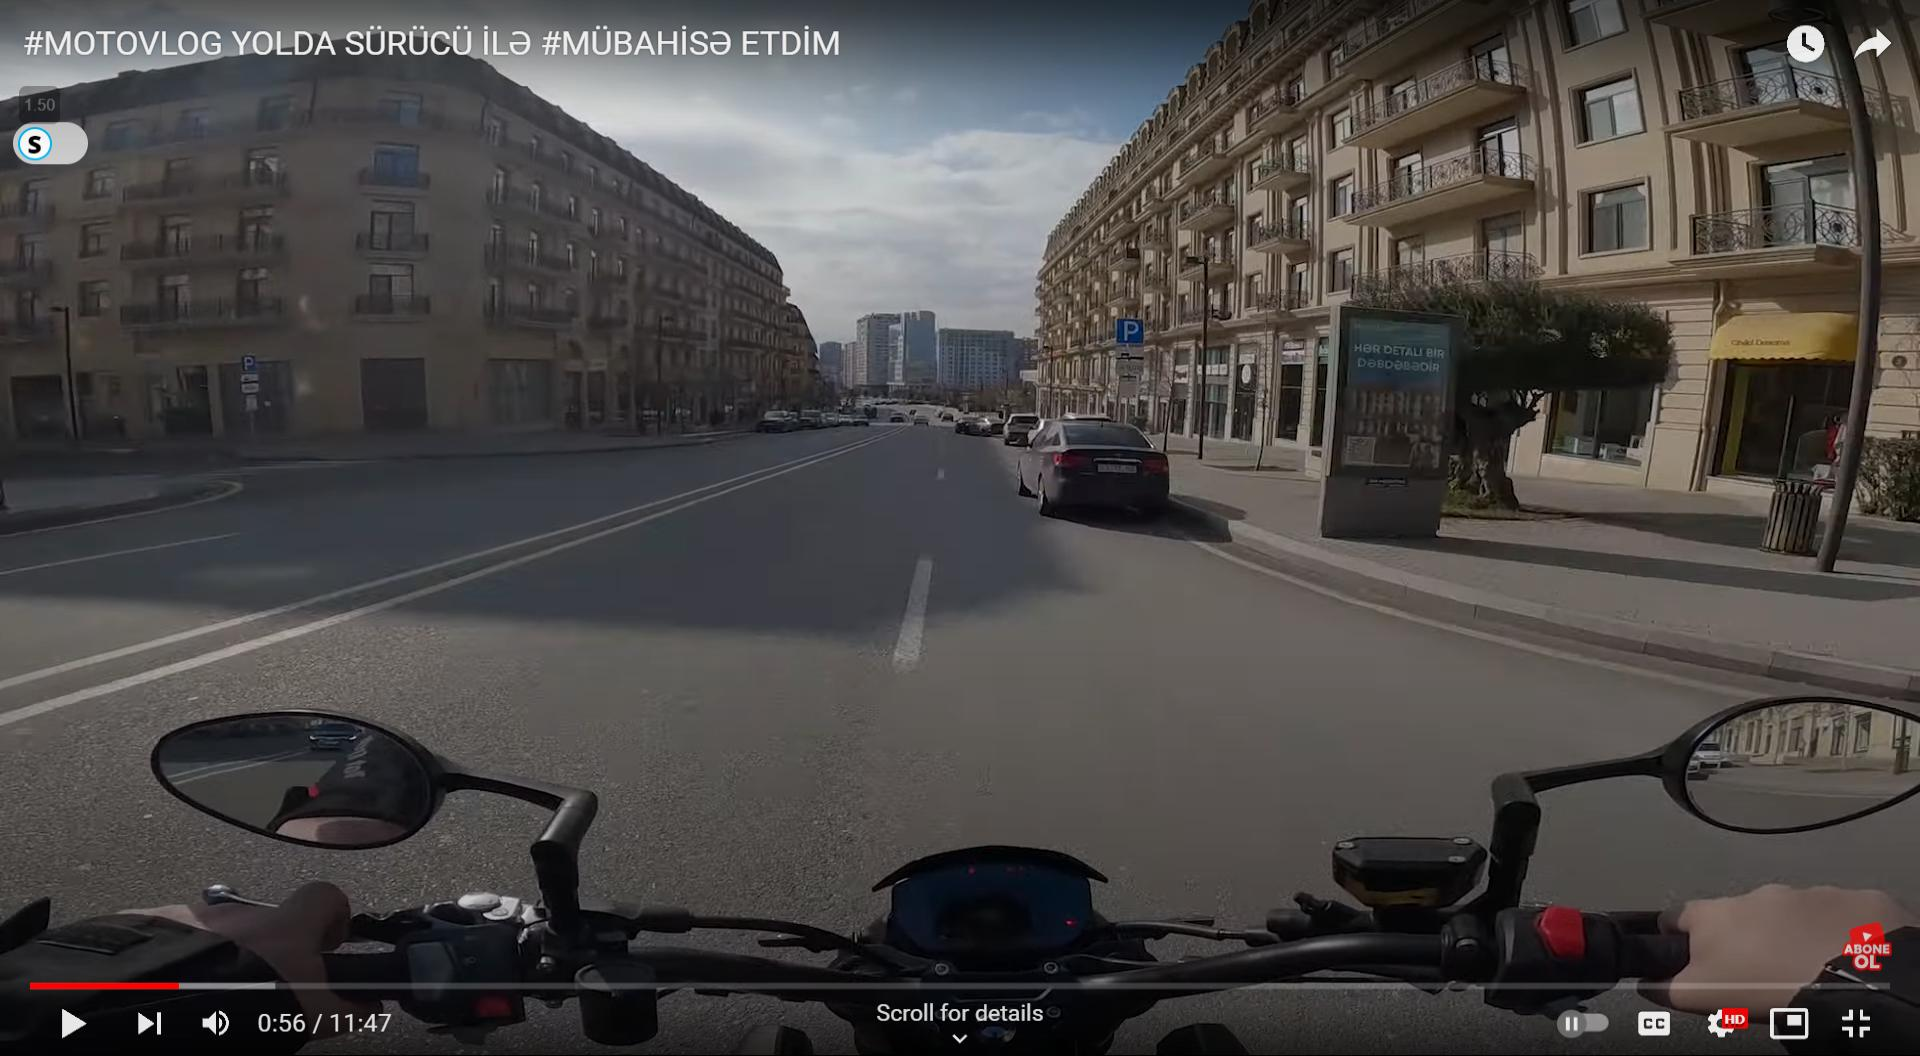banner: (1330, 305, 1457, 484)
